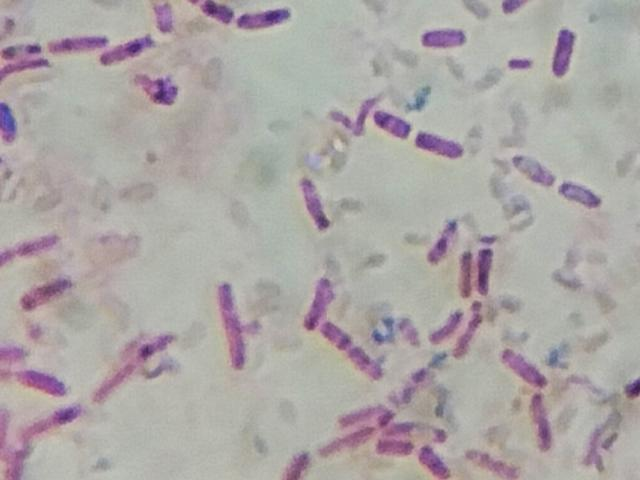E. coli: (323, 319, 383, 383), (212, 282, 250, 382), (97, 34, 163, 67), (416, 126, 473, 163), (299, 172, 331, 236), (14, 274, 74, 306), (504, 346, 547, 386), (560, 177, 605, 214), (528, 389, 555, 449), (0, 230, 60, 257), (515, 149, 552, 189), (32, 405, 85, 430), (429, 214, 454, 267), (314, 430, 371, 453), (20, 366, 66, 394), (240, 9, 292, 33), (426, 25, 477, 49), (307, 275, 328, 333), (41, 35, 107, 53), (558, 26, 577, 84), (466, 304, 485, 359), (460, 248, 478, 301), (434, 306, 457, 346), (3, 57, 53, 75), (340, 404, 384, 424), (420, 442, 443, 480), (149, 0, 175, 33), (190, 0, 228, 22), (374, 106, 402, 135), (505, 52, 534, 75), (482, 237, 493, 294), (287, 448, 306, 479), (2, 41, 46, 54), (503, 0, 527, 13)
